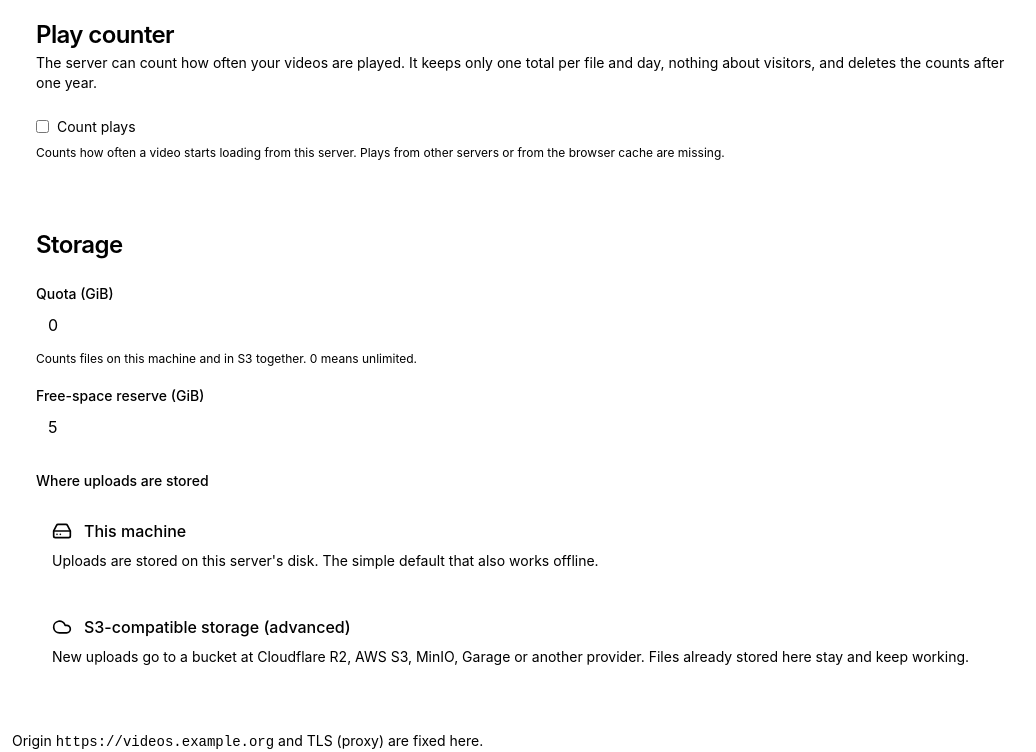
Test: S3 storage › labels the quota as covering local and S3 and keeps S3 an opt-in choice
(page scrolled)
Expected: the text "Counts files on this machine and in S3 together. 0 means unlimited." is shown, 36,351 -> 417,366
Expected: the field labelled "Endpoint" is not shown
Click the button "S3-compatible storage": (217, 627) 36,599 -> 1012,683
(page scrolled)
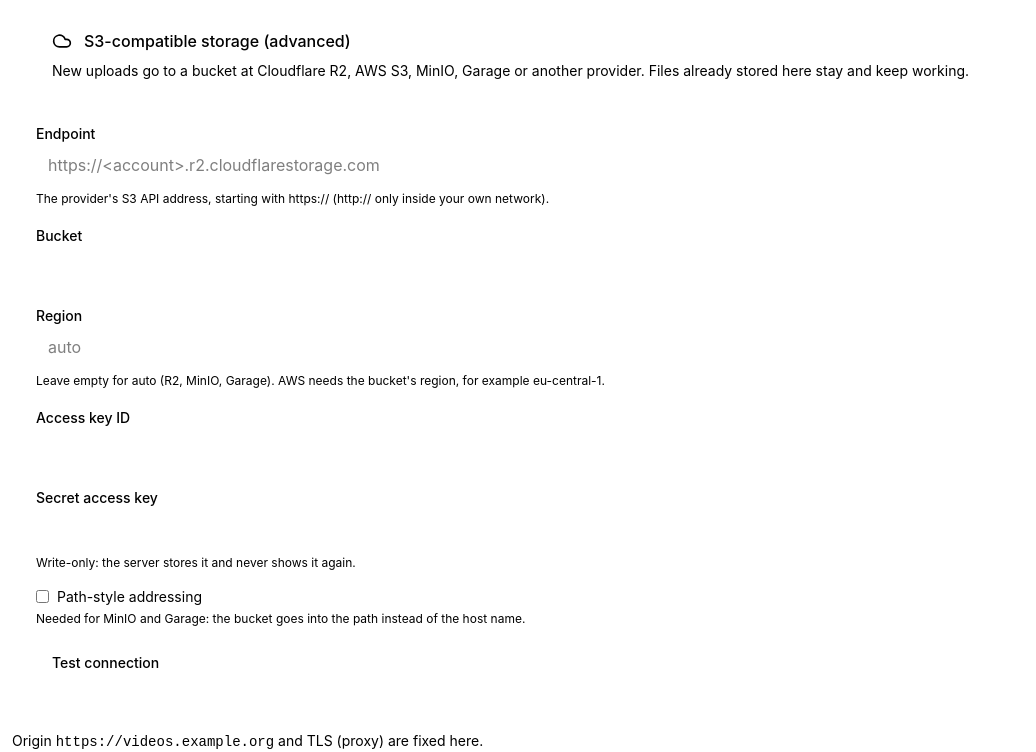
Expected: the field labelled "Endpoint" is empty, 36,145 -> 1012,185
Expected: the text "Write-only: the server stores it and never shows it again." is shown, 36,555 -> 356,570
